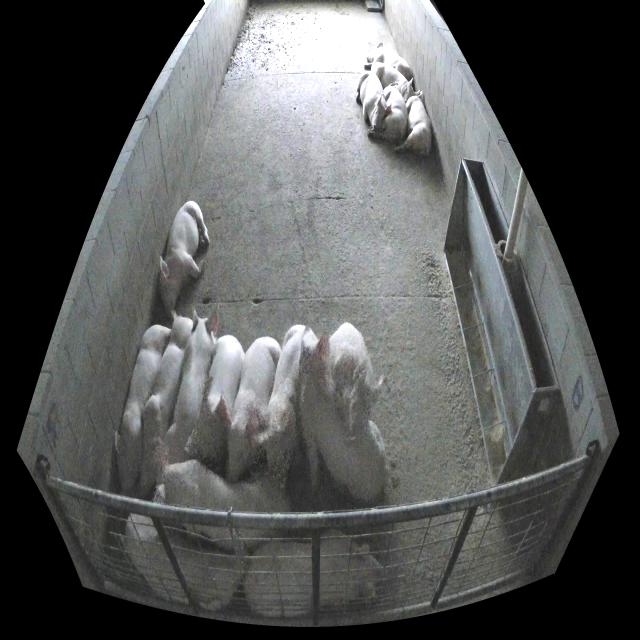pig: (300, 329, 387, 504), (244, 530, 388, 617), (125, 512, 249, 609), (152, 460, 291, 546), (115, 324, 173, 494), (139, 311, 193, 491), (162, 305, 218, 464), (226, 337, 281, 482), (185, 335, 245, 465), (264, 324, 306, 491), (326, 323, 382, 438), (160, 201, 209, 314), (366, 82, 408, 144), (395, 92, 432, 156), (355, 71, 394, 129), (371, 63, 420, 104), (364, 43, 411, 81)
